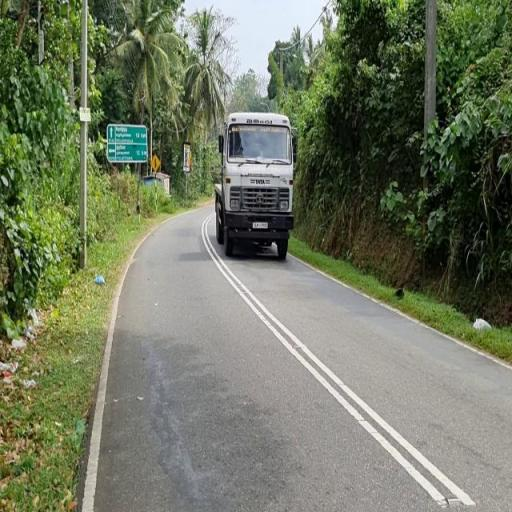double_white_line: (204, 210, 475, 504)
